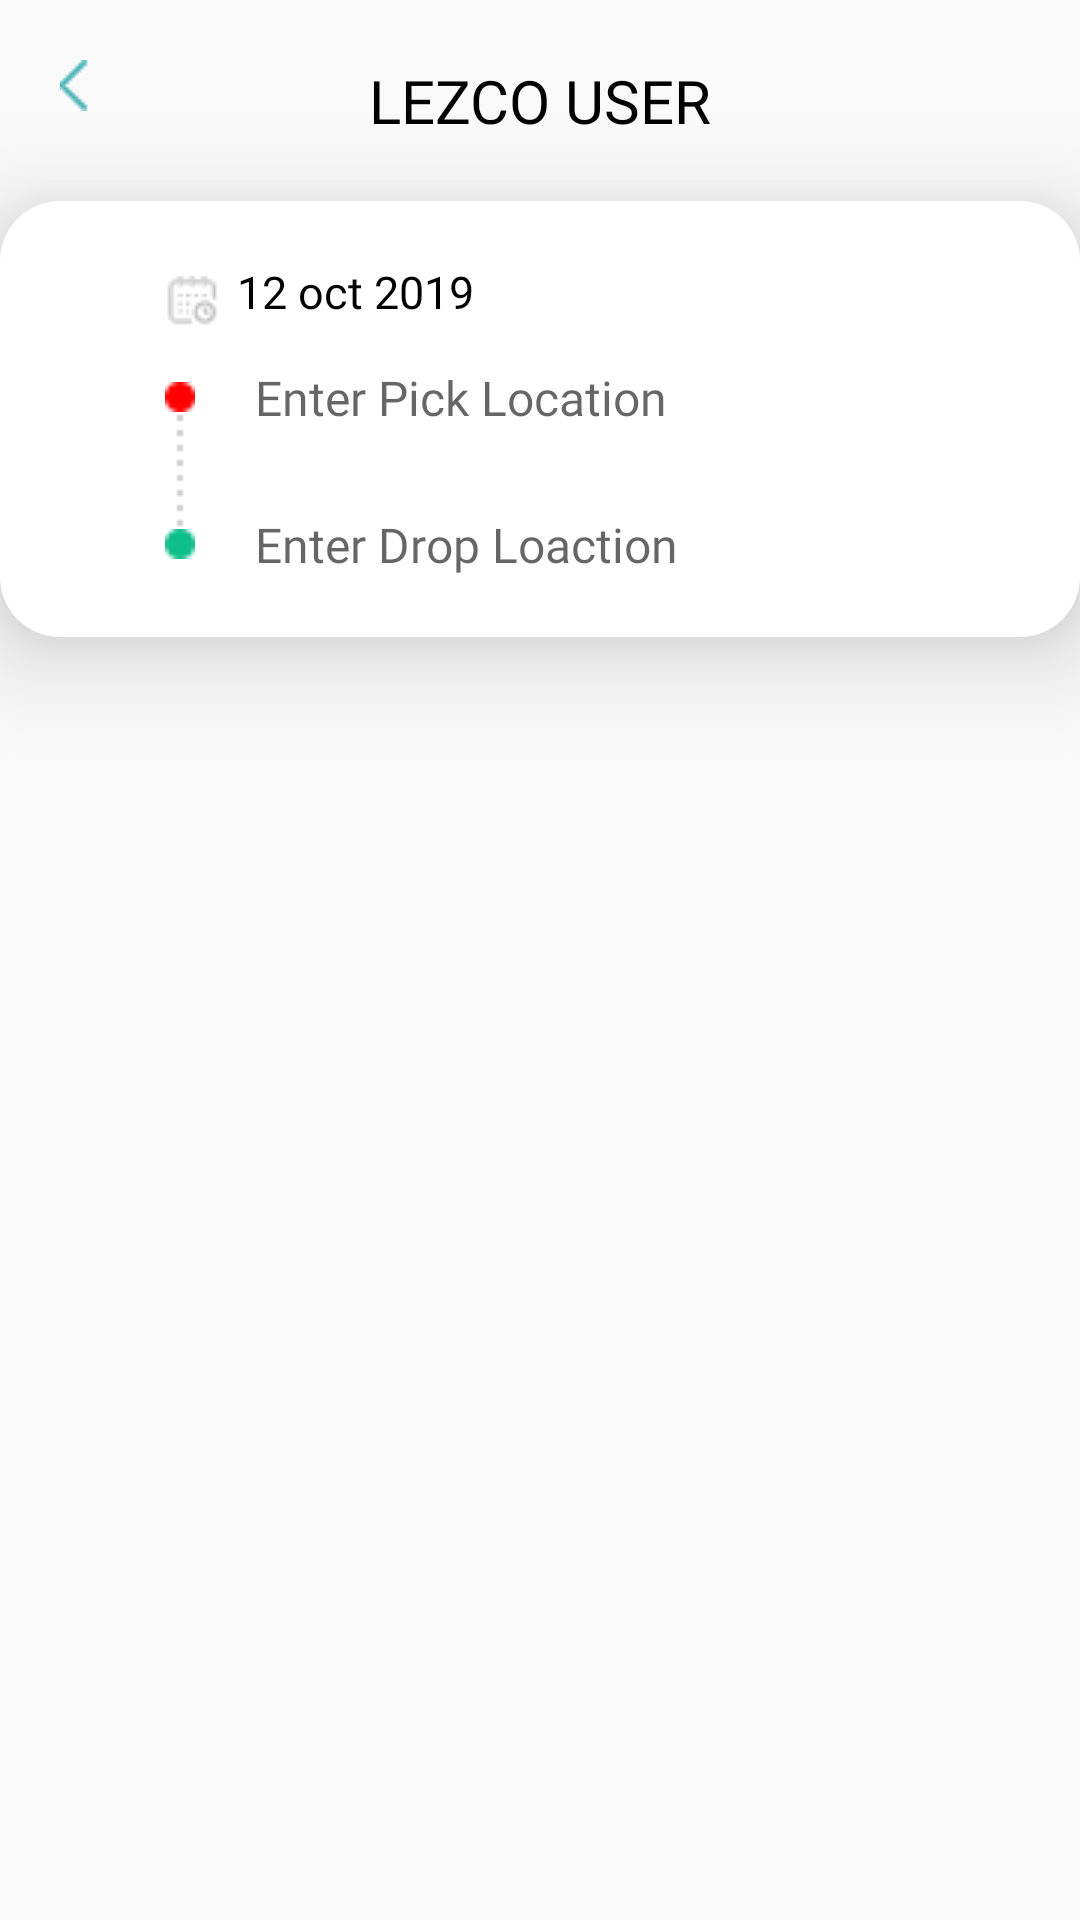

Icons on this 1080 × 1920 Android screen, each with its box as detection(x1, y1, x2, y2):
back: detection(60, 60, 88, 111)
date: detection(168, 276, 216, 324)
